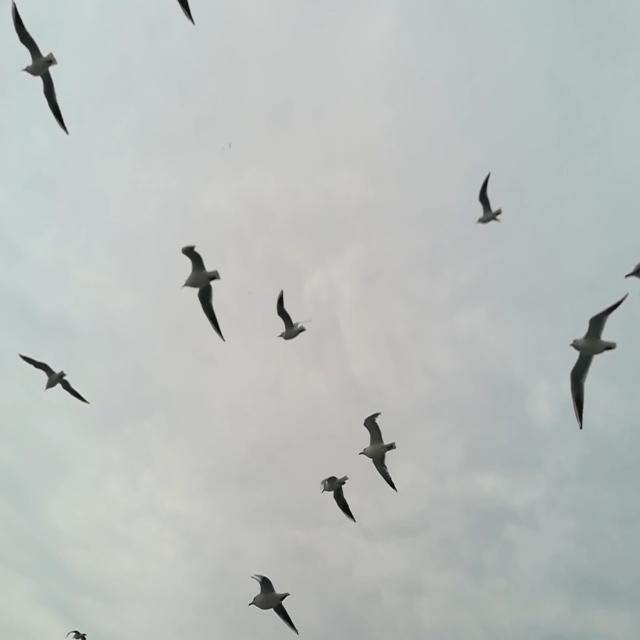bird: (569, 290, 630, 431), (10, 0, 70, 136), (180, 243, 225, 341), (18, 355, 91, 405), (358, 413, 399, 494), (248, 572, 300, 634), (318, 474, 356, 524), (274, 291, 312, 341), (477, 171, 503, 225), (176, 0, 196, 28), (624, 255, 640, 281), (62, 629, 87, 640), (228, 142, 232, 150)
